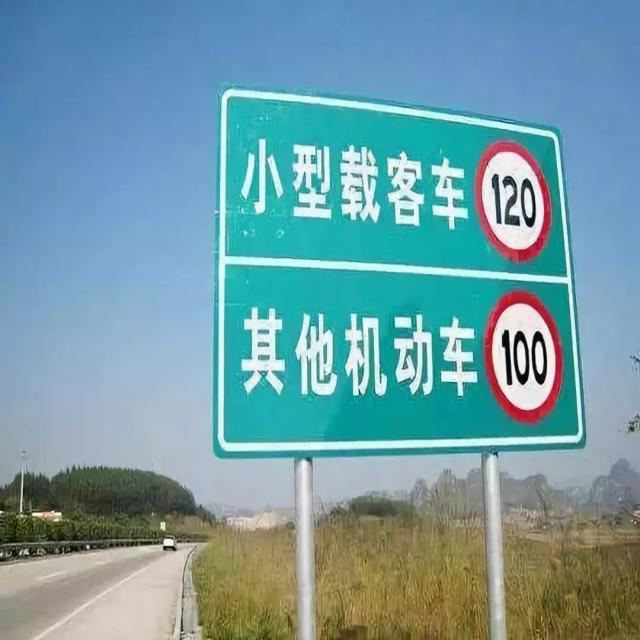speed limit 100: (484, 291, 564, 423)
speed limit 120: (472, 138, 551, 262)
